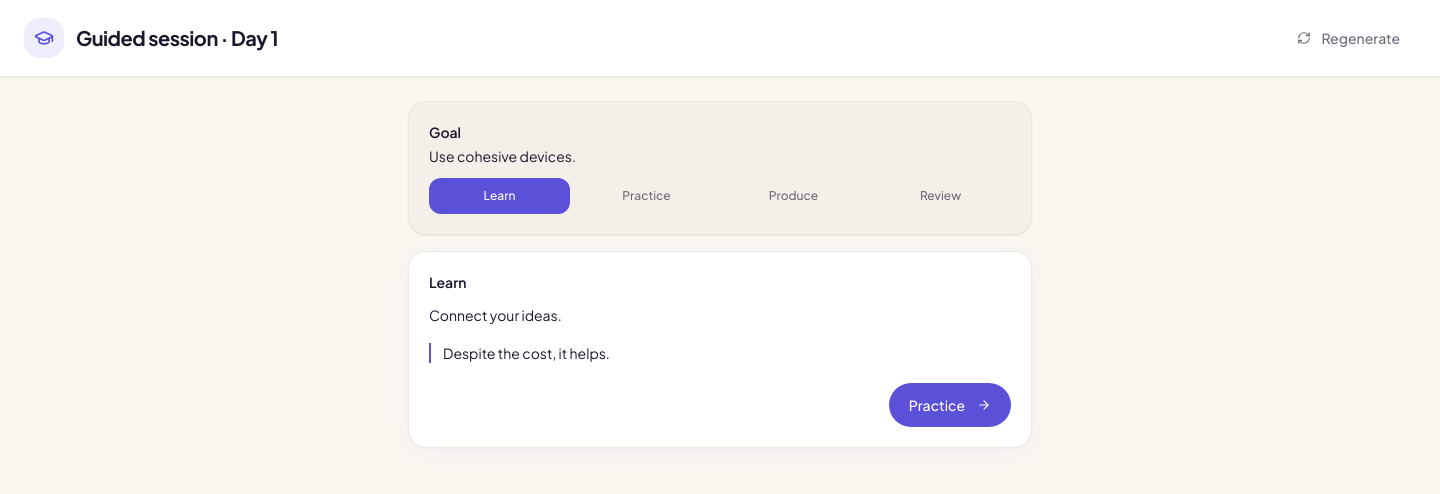
Scenario: Session › checks an exercise answer and shows feedback
This screenshot has width=1440, height=494.
Click the button "Practice". click: click(950, 405)
box: 889,383 -> 1011,427
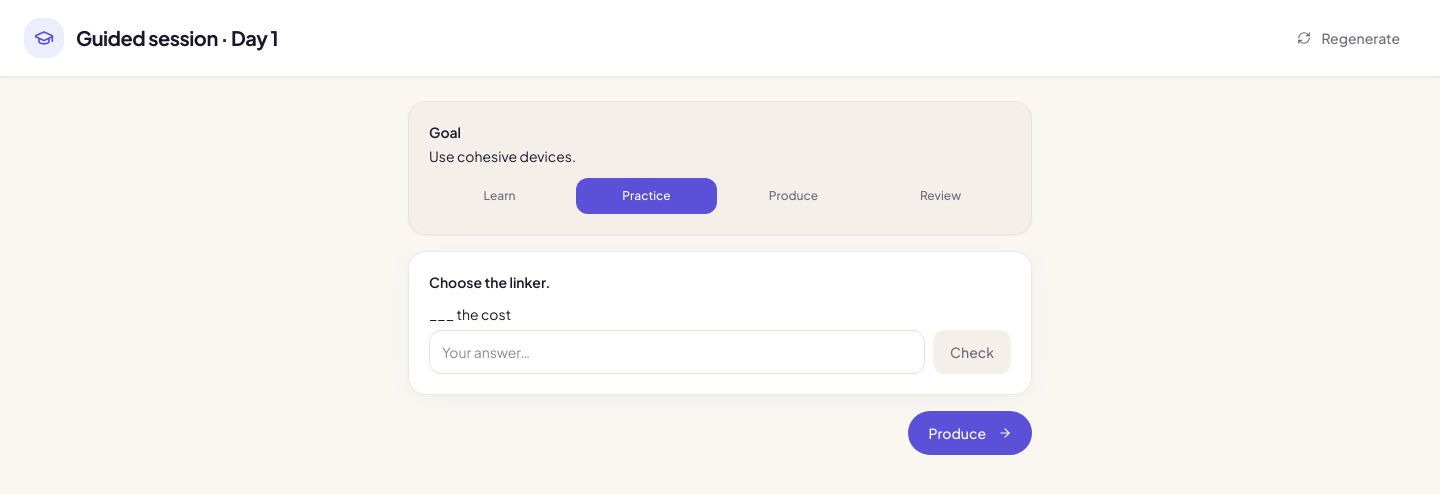
Type "wrong" into the field labelled "Your answer". click: (677, 352)
box: 429,330 -> 925,374
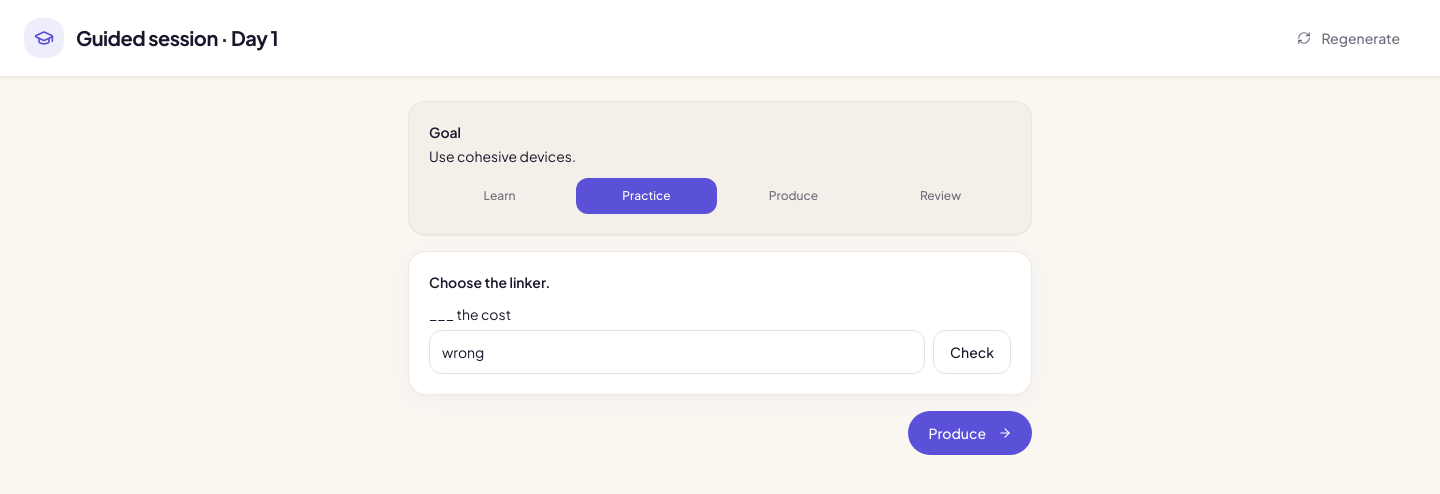
Click the button "Check". click: click(972, 352)
box: 933,330 -> 1011,374
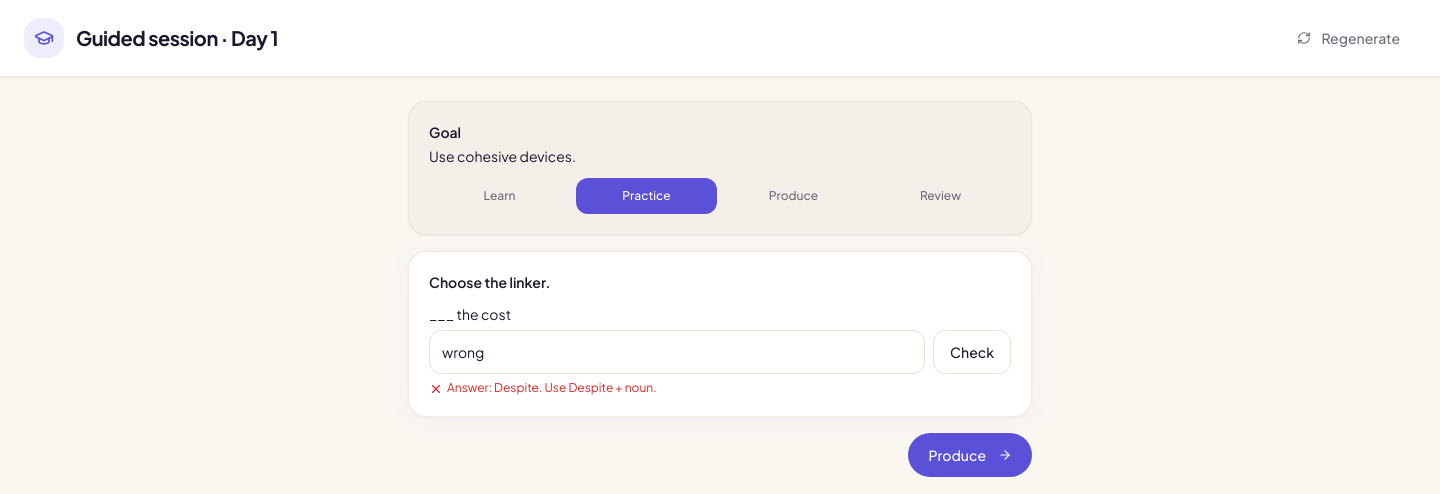
Result: the text "Answer: Despite. Use Despite + noun." is shown at 429,380 -> 657,396
